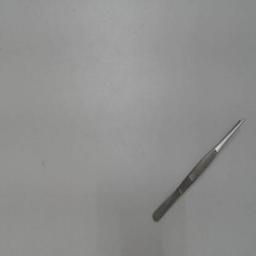Gillies Toothed Dissector: (149, 114, 249, 228)
